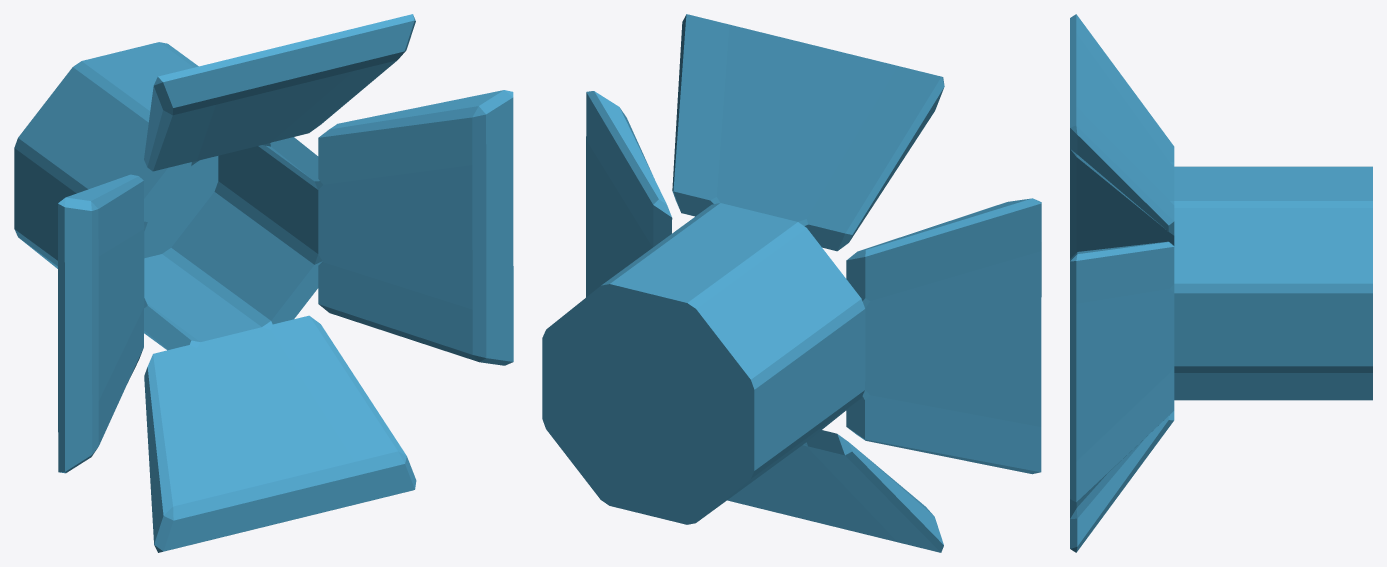
The model's file is directional_light_icon_3d.fbx.
3 renders of one model, left to right at view 1: azimuth 30°, elevation 25°; view 2: azimuth 150°, elevation 25°; view 3: azimuth 270°, elevation 25°, orthographic. The views are drawn at different scales.
Visible parts, largest first — view 1: SpotLight_Mesh; view 2: SpotLight_Mesh; view 3: SpotLight_Mesh.
Boxes of the visible parts, <box> form: SpotLight_Mesh: <box>14,14,513,552</box>; SpotLight_Mesh: <box>542,14,1041,552</box>; SpotLight_Mesh: <box>1070,14,1372,552</box>.
Bounding box in the file's own units: 209 × 209 × 134.
